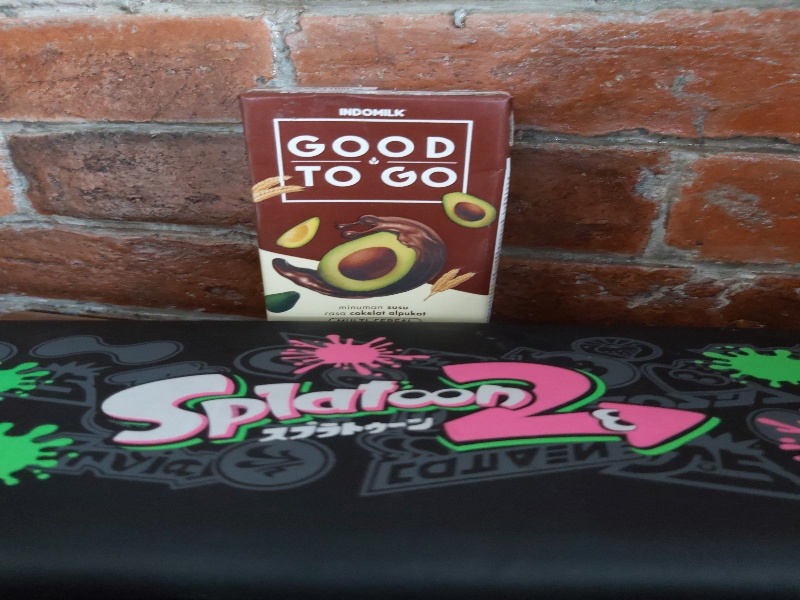cokelat: (237, 86, 515, 323)
